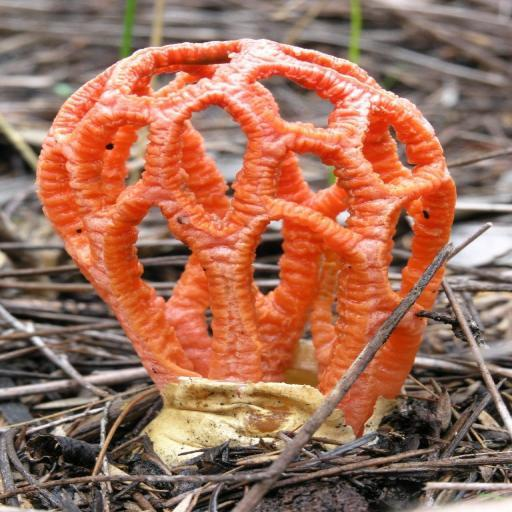mushroom: (0, 0, 512, 486), (309, 267, 477, 456)
